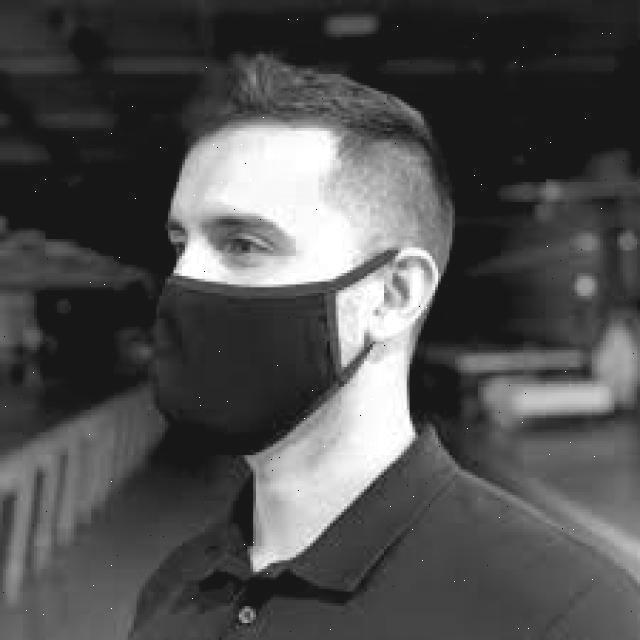fake: (125, 256, 395, 470)
real: (165, 125, 371, 475)
